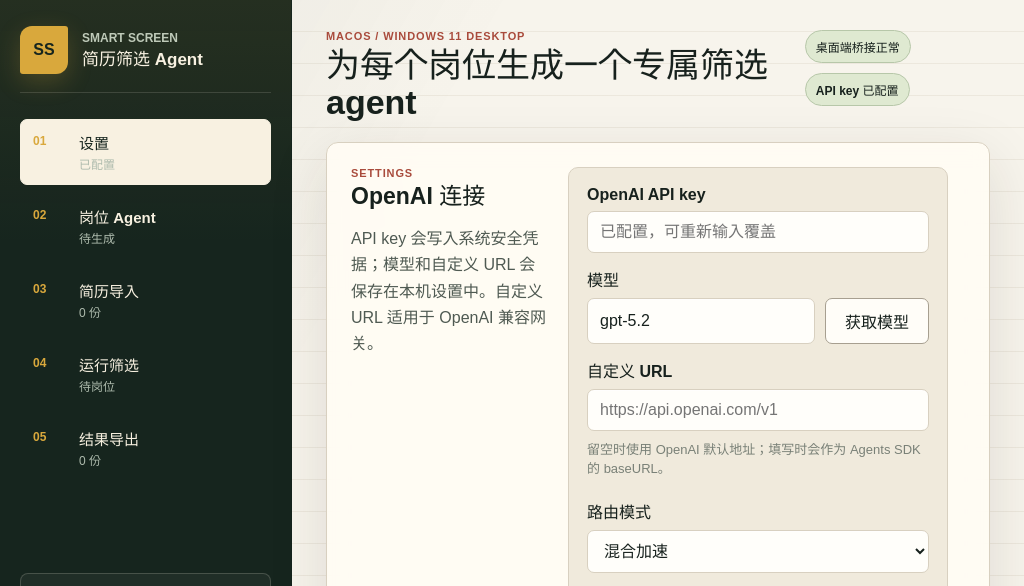
Test: App smoke flow › shows routing and model-waiting progress during desktop multi-agent screening
Check: the text "API key 已配置" is shown, box [805,73,910,106]
Click the button "02 岗位 Agent 待生成" at coordinates (146, 226), box [20,193,271,259]
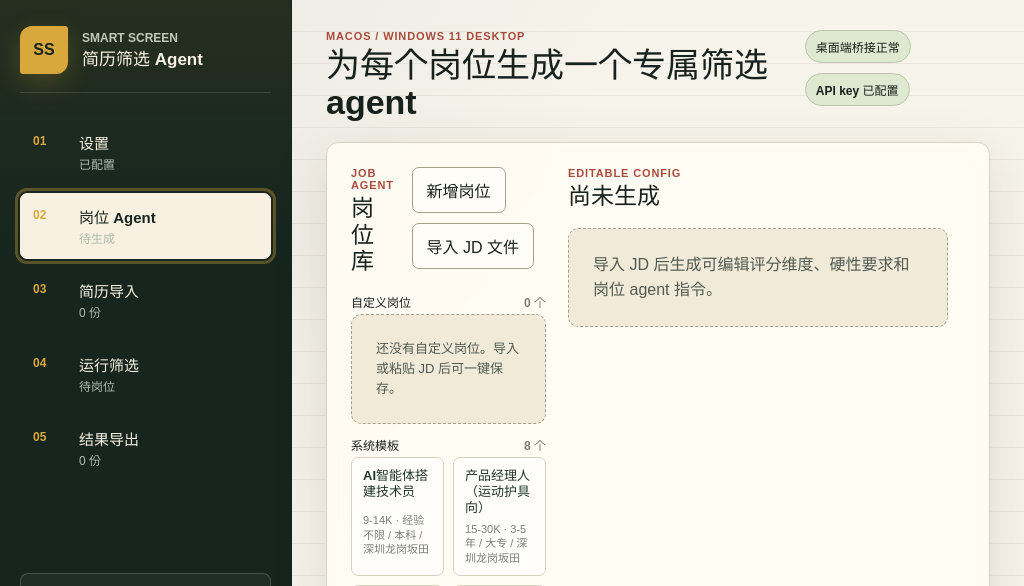
Click the button with aria-label "编辑 AI智能体搭建技术员" at coordinates (398, 517), box [351,457,444,576]
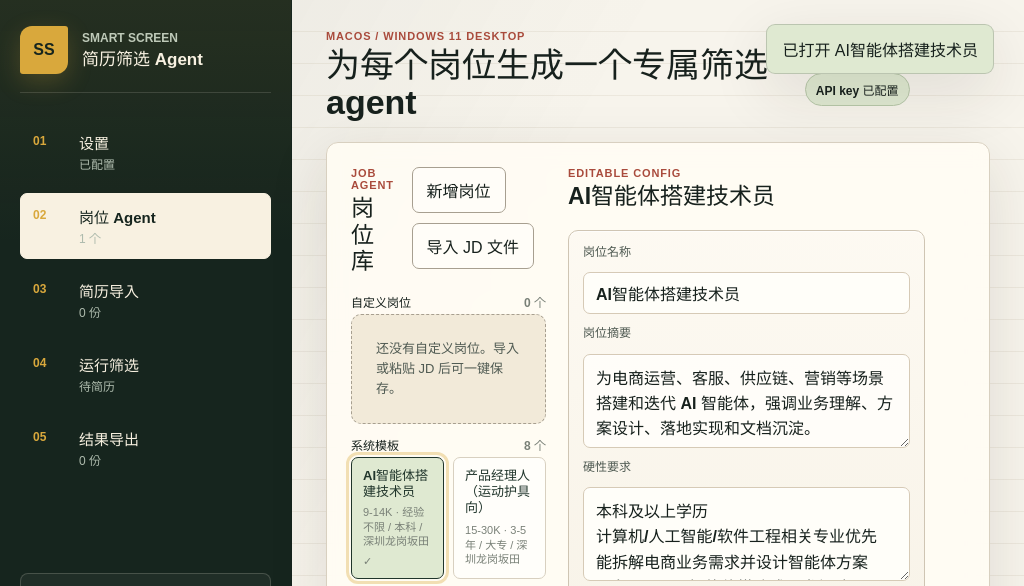
Click the button "03 简历导入 0 份" at coordinates (146, 300), box [20,267,271,333]
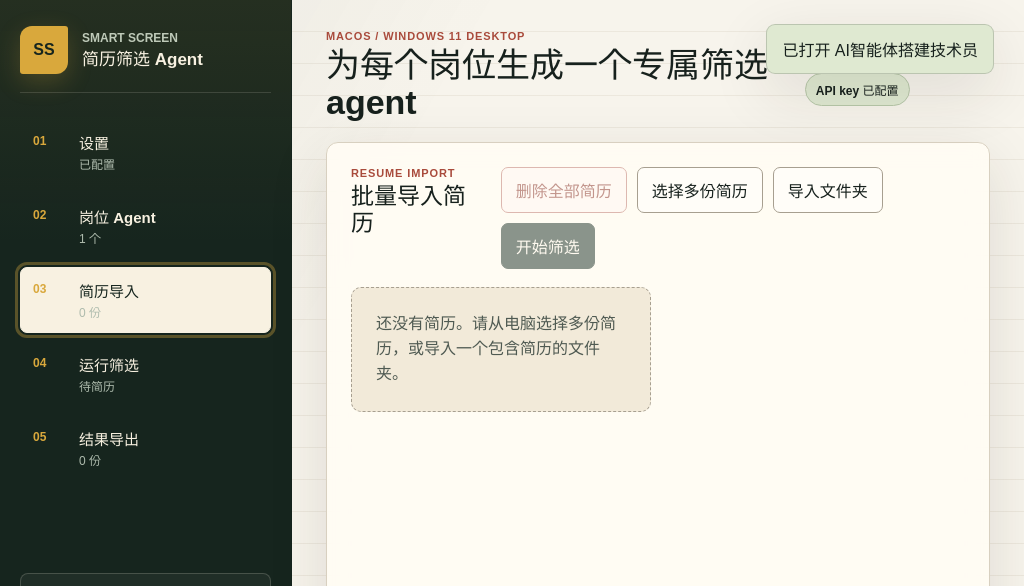
Click the button "选择多份简历" at coordinates (700, 190), box [637,167,763,213]
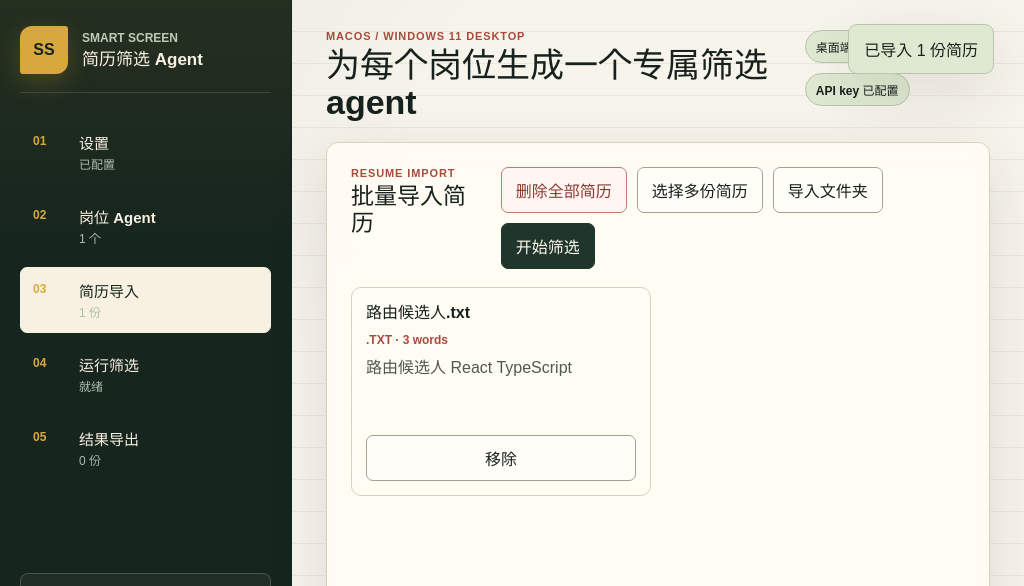
Click the button "开始筛选" at coordinates (548, 246), box [501,223,595,269]
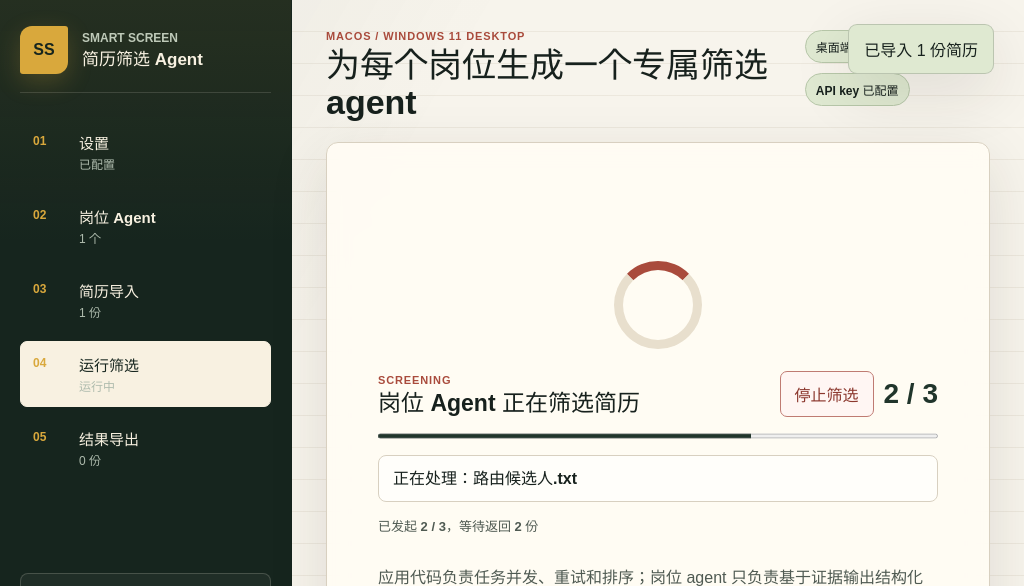
Check: the text "1 / 3" is shown, box [884,380,938,408]
Check: the heading "岗位 Agent 正在筛选简历" is shown, box [378,390,640,417]
Check: the text "正在处理：路由候选人.txt" is shown, box [378,455,938,502]
